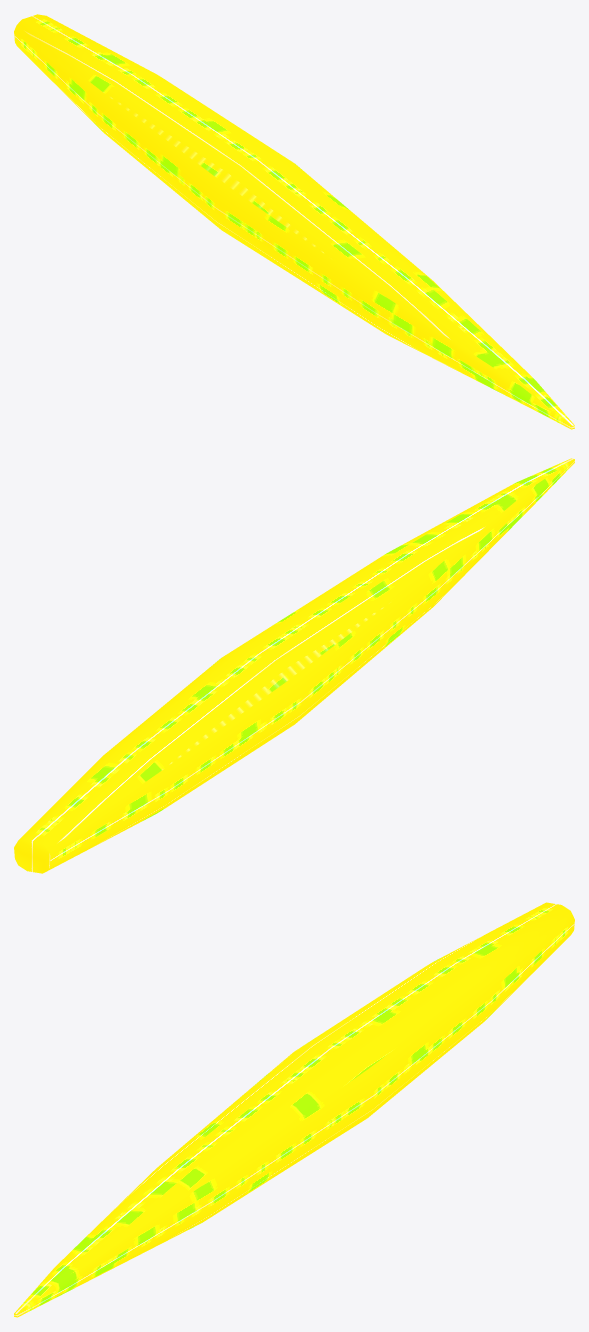
The model's file is POD_L.glb.
3 renders of one model, top to bottom at view 1: azimuth 30°, elevation 25°; view 2: azimuth 150°, elevation 25°; view 3: azimuth 330°, elevation 25°, orthographic.
Visible parts, largest first — view 1: POD_L_01_LITE; view 2: POD_L_01_LITE; view 3: POD_L_01_LITE.
Part boxes in pixels (x1=…): POD_L_01_LITE: x1=14, y1=14, x2=574, y2=429; POD_L_01_LITE: x1=14, y1=458, x2=574, y2=873; POD_L_01_LITE: x1=14, y1=902, x2=574, y2=1317.
Bounding box in the file's own units: 0.8398 × 0.6799 × 9.1.
Materials: 1 (1 with a texture image).
